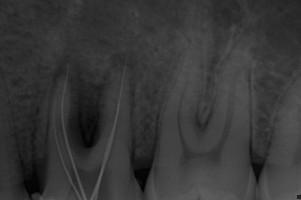Dental Caries: (51, 48, 106, 147), (111, 49, 145, 90)
